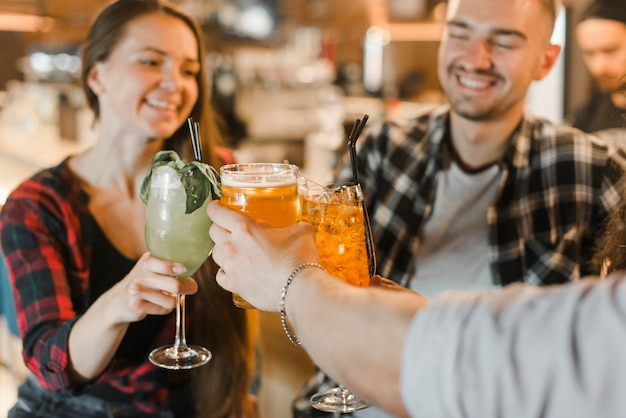alcohol: (143, 149, 216, 371), (220, 163, 311, 311), (298, 184, 376, 290)
